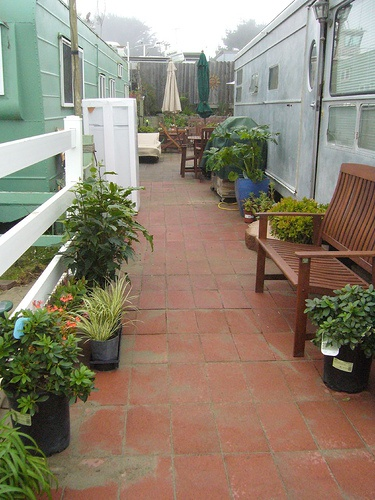flowerpot: (4, 372, 75, 460), (319, 337, 375, 395), (92, 334, 121, 363)
